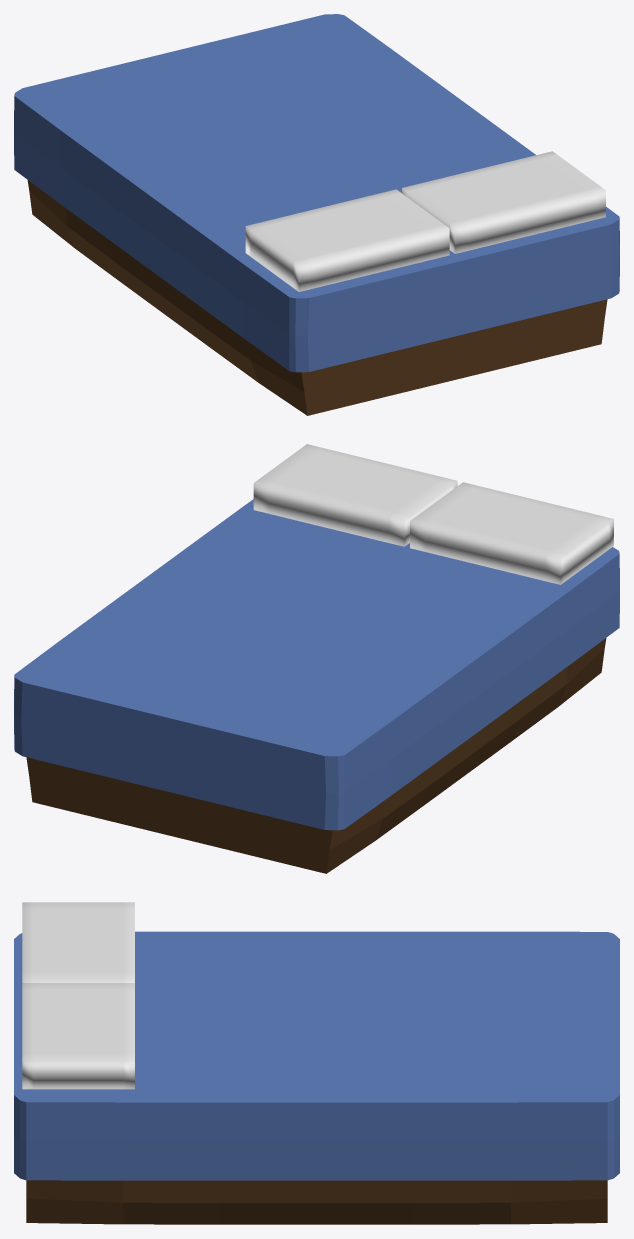
Rendered from cama.gltf.
3 renders of one model, top to bottom at view 1: azimuth 30°, elevation 25°; view 2: azimuth 150°, elevation 25°; view 3: azimuth 270°, elevation 25°, orthographic. The views are drawn at different scales.
Parts seen in each view (by area): view 1: Cube, Cube.001, Cube.002; view 2: Cube, Cube.001, Cube.002; view 3: Cube, Cube.002, Cube.001.
Part boxes in pixels (x1=…): Cube: x1=14, y1=14, x2=619, y2=415; Cube.001: x1=245, y1=189, x2=449, y2=291; Cube.002: x1=402, y1=151, x2=605, y2=253; Cube: x1=14, y1=499, x2=619, y2=873; Cube.001: x1=410, y1=482, x2=613, y2=584; Cube.002: x1=253, y1=444, x2=457, y2=546; Cube: x1=14, y1=931, x2=619, y2=1224; Cube.002: x1=22, y1=983, x2=134, y2=1089; Cube.001: x1=22, y1=902, x2=134, y2=982.
Size of the model in its own units: 4.16 by 1.85 by 6.21.
